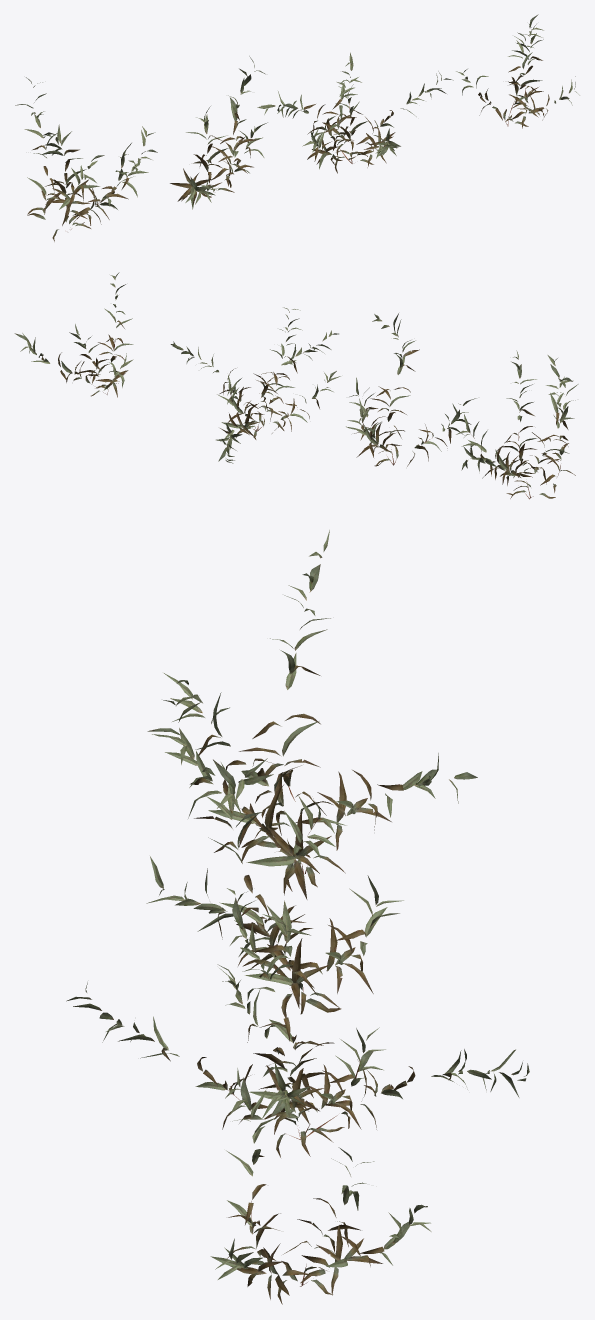
Rendered from shrub-02.glb.
3 renders of one model, top to bottom at view 1: azimuth 30°, elevation 25°; view 2: azimuth 150°, elevation 25°; view 3: azimuth 270°, elevation 25°, orthographic. The views are drawn at different scales.
Visible parts, largest first — view 1: shrub_02_a; view 2: shrub_02_a; view 3: shrub_02_a.
Boxes of the visible parts, bbox=[...] form: shrub_02_a: bbox=[15, 14, 579, 241]; shrub_02_a: bbox=[14, 272, 578, 499]; shrub_02_a: bbox=[66, 530, 529, 1304].
Size of the model in its own units: 6.05 by 1.7 by 2.28.
Materials: 1 (1 with a texture image).
